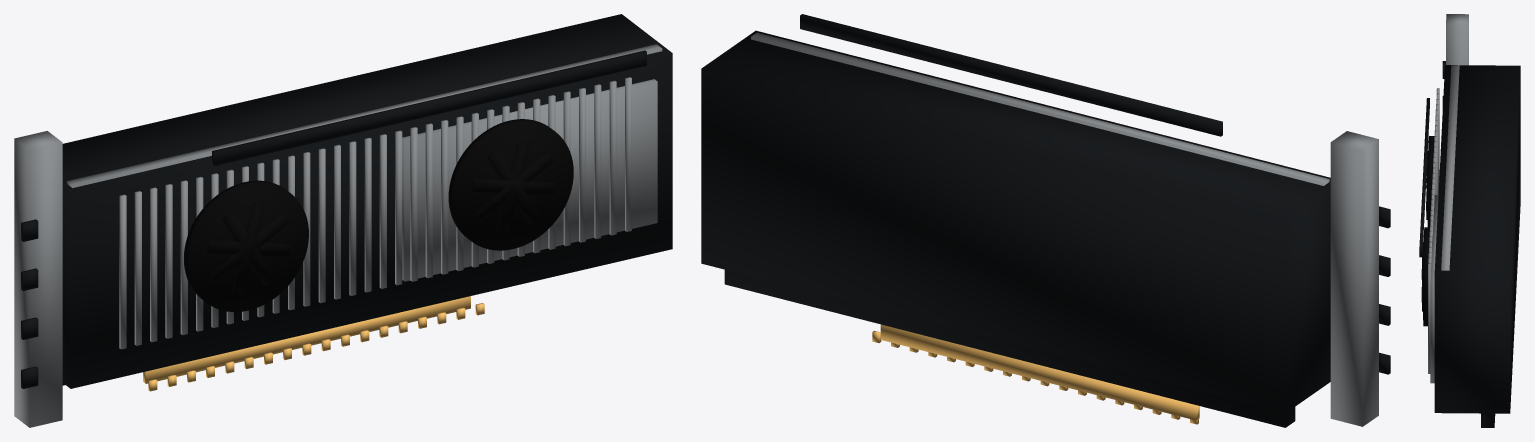
The model's file is gpu_static.glb.
3 renders of one model, left to right at view 1: azimuth 30°, elevation 25°; view 2: azimuth 150°, elevation 25°; view 3: azimuth 270°, elevation 25°, orthographic. The views are drawn at different scales.
Parts seen in each view (by area): view 1: Componente_GPU_shroud_principal, Componente_GPU_bisel_frontal_angular, Componente_GPU_bracket_IO_metal, Componente_GPU_fan_1, Componente_GPU_fan_2, Componente_GPU_RGB_borde_superior, Componente_GPU_conector_PCIe_dorado, Componente_GPU_backplate_titanio, Componente_GPU_aleta_disipador_00, Componente_GPU_aleta_disipador_20, Componente_GPU_aleta_disipador_02, Componente_GPU_aleta_disipador_03 (+26 smaller); view 2: Componente_GPU_shroud_principal, Componente_GPU_bracket_IO_metal, Componente_GPU_PCB_largo_PCIe, Componente_GPU_RGB_borde_superior, Componente_GPU_backplate_titanio, Componente_GPU_conector_PCIe_dorado; view 3: Componente_GPU_shroud_principal, Componente_GPU_backplate_titanio, Componente_GPU_bracket_IO_metal, Componente_GPU_bisel_frontal_angular, Componente_GPU_RGB_borde_superior, Componente_GPU_fan_2, Componente_GPU_fan_1, Componente_GPU_aleta_disipador_33, Componente_GPU_PCB_largo_PCIe.
Boxes of the visible parts, left/top/right/bottom form: Componente_GPU_shroud_principal: left=62, top=14, right=672, bottom=388; Componente_GPU_bisel_frontal_angular: left=402, top=79, right=657, bottom=281; Componente_GPU_bracket_IO_metal: left=14, top=131, right=62, bottom=427; Componente_GPU_fan_1: left=184, top=180, right=308, bottom=311; Componente_GPU_fan_2: left=448, top=119, right=573, bottom=250; Componente_GPU_RGB_borde_superior: left=212, top=50, right=646, bottom=165; Componente_GPU_conector_PCIe_dorado: left=143, top=296, right=470, bottom=383; Componente_GPU_backplate_titanio: left=67, top=44, right=662, bottom=187; Componente_GPU_aleta_disipador_00: left=119, top=194, right=126, bottom=349; Componente_GPU_aleta_disipador_20: left=425, top=123, right=432, bottom=278; Componente_GPU_aleta_disipador_02: left=150, top=187, right=157, bottom=342; Componente_GPU_aleta_disipador_03: left=165, top=183, right=172, bottom=338; Componente_GPU_shroud_principal: left=701, top=30, right=1330, bottom=412; Componente_GPU_bracket_IO_metal: left=1330, top=131, right=1378, bottom=426; Componente_GPU_PCB_largo_PCIe: left=724, top=269, right=1295, bottom=427; Componente_GPU_RGB_borde_superior: left=800, top=14, right=1222, bottom=136; Componente_GPU_backplate_titanio: left=751, top=32, right=1329, bottom=185; Componente_GPU_conector_PCIe_dorado: left=880, top=324, right=1199, bottom=420; Componente_GPU_shroud_principal: left=1434, top=65, right=1520, bottom=413; Componente_GPU_backplate_titanio: left=1441, top=65, right=1459, bottom=270; Componente_GPU_bracket_IO_metal: left=1446, top=14, right=1468, bottom=65; Componente_GPU_bisel_frontal_angular: left=1430, top=195, right=1438, bottom=383; Componente_GPU_RGB_borde_superior: left=1419, top=98, right=1429, bottom=257; Componente_GPU_fan_2: left=1423, top=227, right=1429, bottom=326; Componente_GPU_fan_1: left=1427, top=136, right=1434, bottom=227; Componente_GPU_aleta_disipador_33: left=1428, top=263, right=1430, bottom=373; Componente_GPU_PCB_largo_PCIe: left=1481, top=413, right=1495, bottom=427.
Bounding box in the file's own units: 3.36 × 1.49 × 0.637.
